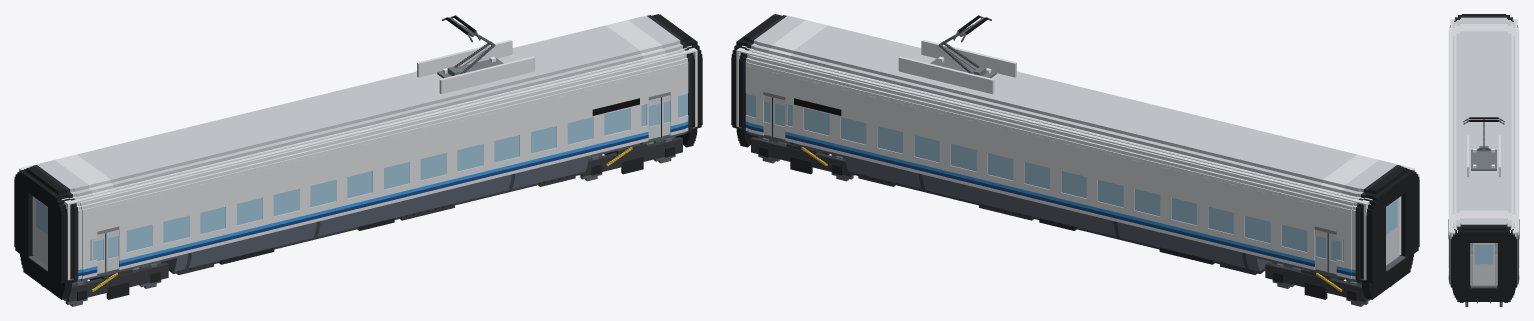
The model's file is avelia_car.obj.
The picture shows the model from 3 angles, left to right: view 1: azimuth 30°, elevation 25°; view 2: azimuth 150°, elevation 25°; view 3: azimuth 270°, elevation 25°; orthographic projection. The views are drawn at different scales.
Parts seen in each view (by area): view 1: SHELL, SHELL_diaphragm, SHELL_pantograph, SHELL_ceiling, BOGEY_REAR, BOGEY_FRONT, FRAME, CONNECTING_DOOR_1_CG_CR_TOGGLE_TL_0.98_Z, SHELL_end, EXTERNAL_DOOR_10_CG_DR2_TOGGLE_TL_-0.44_X, EXTERNAL_DOOR_5_CG_DR1_TOGGLE_TL_0.44_X, EXTERNAL_DOOR_4_CG_DR1_TOGGLE_TL_-0.44_X; view 2: SHELL, SHELL_diaphragm, SHELL_pantograph, SHELL_ceiling, BOGEY_REAR, BOGEY_FRONT, FRAME, CONNECTING_DOOR_1_CG_CR_TOGGLE_TL_0.98_Z, SHELL_end, EXTERNAL_DOOR_13_CG_DL2_TOGGLE_TL_-0.44_X, EXTERNAL_DOOR_8_CG_DL1_TOGGLE_TL_0.44_X, EXTERNAL_DOOR_7_CG_DL1_TOGGLE_TL_-0.44_X; view 3: SHELL, SHELL_diaphragm, SHELL_ceiling, SHELL_pantograph, CONNECTING_DOOR_2_CG_CF_TOGGLE_TL_0.98_Z, SHELL_end, SHELL_floor, SHELL_gangway.
Boxes of the visible parts, x1,y1,x2,y2 form: SHELL: (20, 14, 698, 299); SHELL_diaphragm: (14, 14, 702, 283); SHELL_pantograph: (417, 15, 535, 94); SHELL_ceiling: (22, 15, 695, 204); BOGEY_REAR: (66, 262, 168, 302); BOGEY_FRONT: (581, 137, 682, 176); FRAME: (176, 174, 575, 274); CONNECTING_DOOR_1_CG_CR_TOGGLE_TL_0.98_Z: (34, 197, 47, 265); SHELL_end: (19, 15, 697, 280); EXTERNAL_DOOR_10_CG_DR2_TOGGLE_TL_-0.44_X: (646, 97, 661, 139); EXTERNAL_DOOR_5_CG_DR1_TOGGLE_TL_0.44_X: (106, 229, 118, 271); EXTERNAL_DOOR_4_CG_DR1_TOGGLE_TL_-0.44_X: (91, 233, 106, 273); SHELL: (735, 14, 1413, 299); SHELL_diaphragm: (731, 14, 1419, 283); SHELL_pantograph: (898, 15, 1016, 94); SHELL_ceiling: (738, 15, 1411, 204); BOGEY_REAR: (1265, 262, 1367, 302); BOGEY_FRONT: (751, 137, 852, 176); FRAME: (858, 174, 1257, 274); CONNECTING_DOOR_1_CG_CR_TOGGLE_TL_0.98_Z: (1386, 197, 1399, 265); SHELL_end: (736, 15, 1414, 280); EXTERNAL_DOOR_13_CG_DL2_TOGGLE_TL_-0.44_X: (772, 97, 787, 139); EXTERNAL_DOOR_8_CG_DL1_TOGGLE_TL_0.44_X: (1315, 229, 1327, 271); EXTERNAL_DOOR_7_CG_DL1_TOGGLE_TL_-0.44_X: (1327, 233, 1342, 273); SHELL: (1448, 14, 1519, 301); SHELL_diaphragm: (1451, 15, 1516, 289); SHELL_ceiling: (1450, 19, 1517, 231); SHELL_pantograph: (1463, 117, 1504, 176); CONNECTING_DOOR_2_CG_CF_TOGGLE_TL_0.98_Z: (1472, 243, 1495, 285); SHELL_end: (1450, 19, 1517, 285); SHELL_floor: (1471, 254, 1496, 284); SHELL_gangway: (1470, 285, 1497, 287).
Bounding box in the file's own units: 21.82 × 5.68 × 3.02.
Materials: 1 (1 with a texture image).
